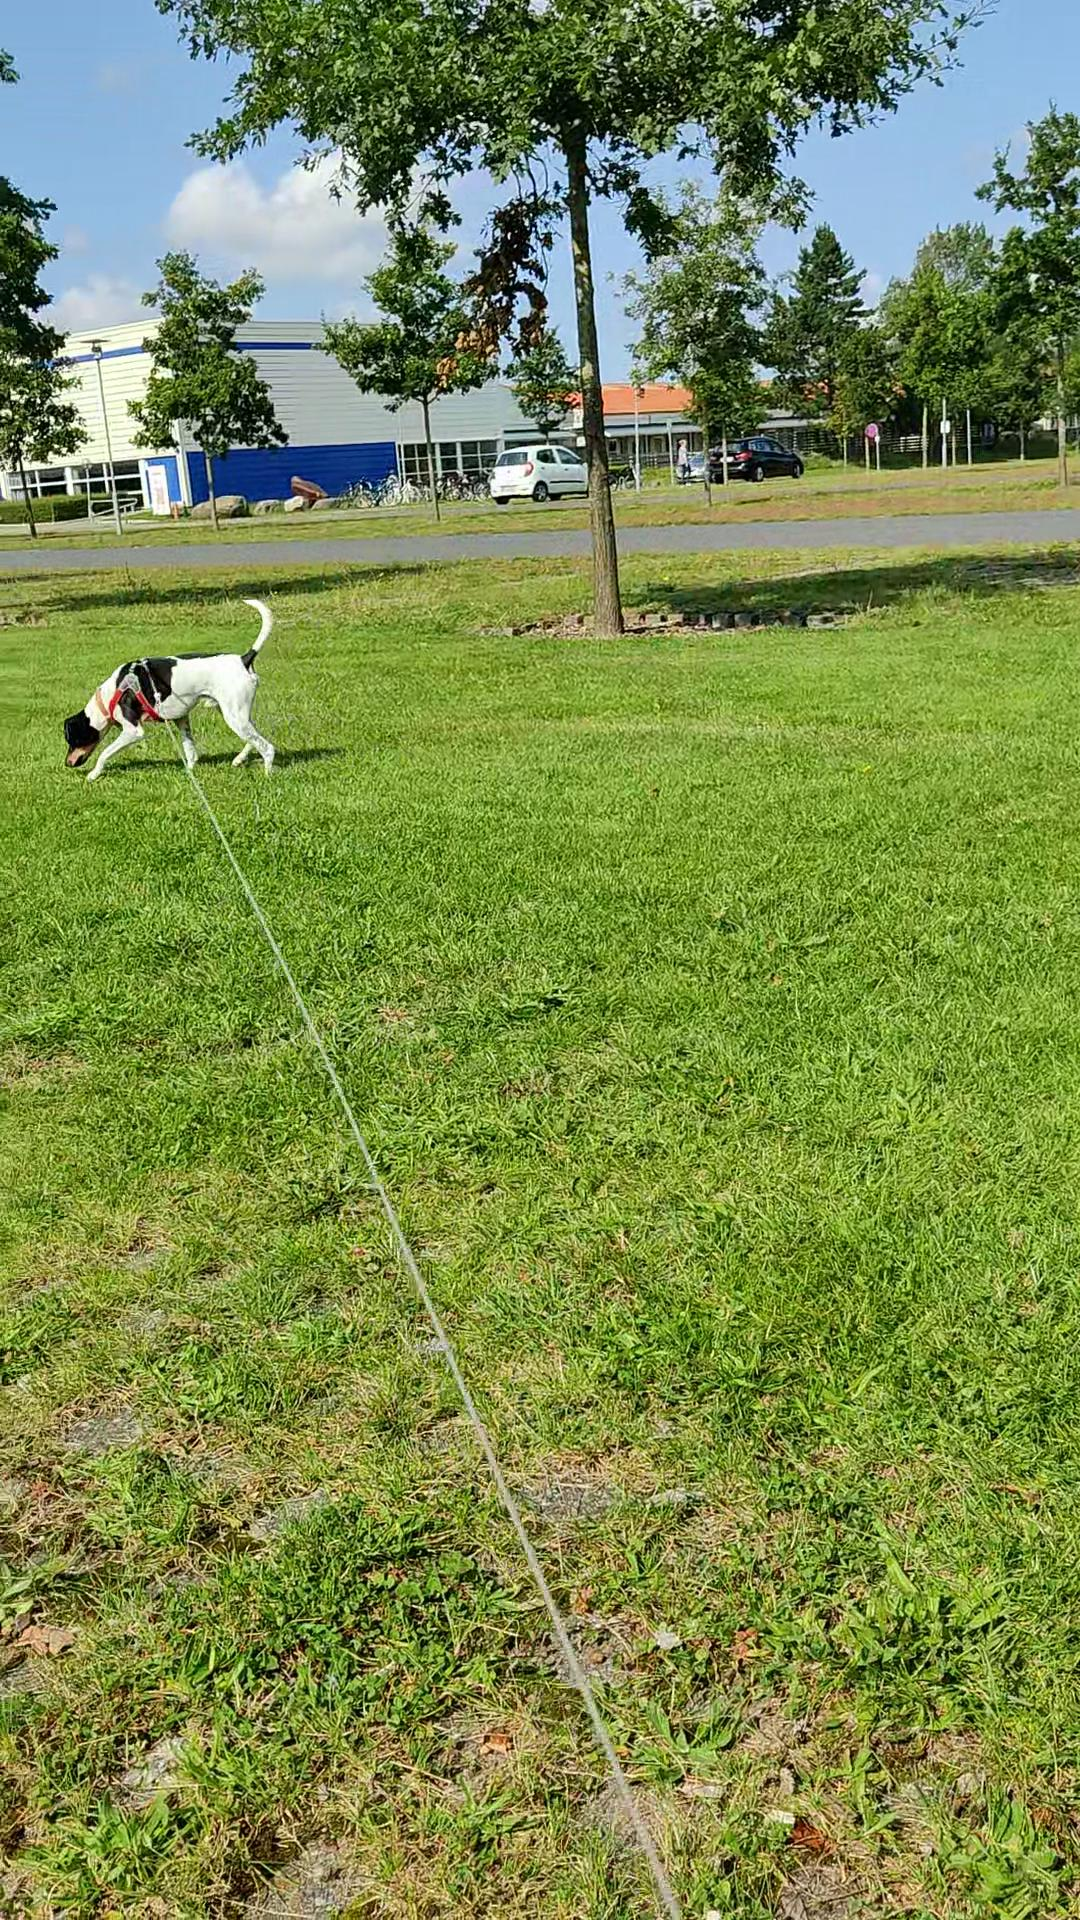Dog: (54, 593, 278, 786)
